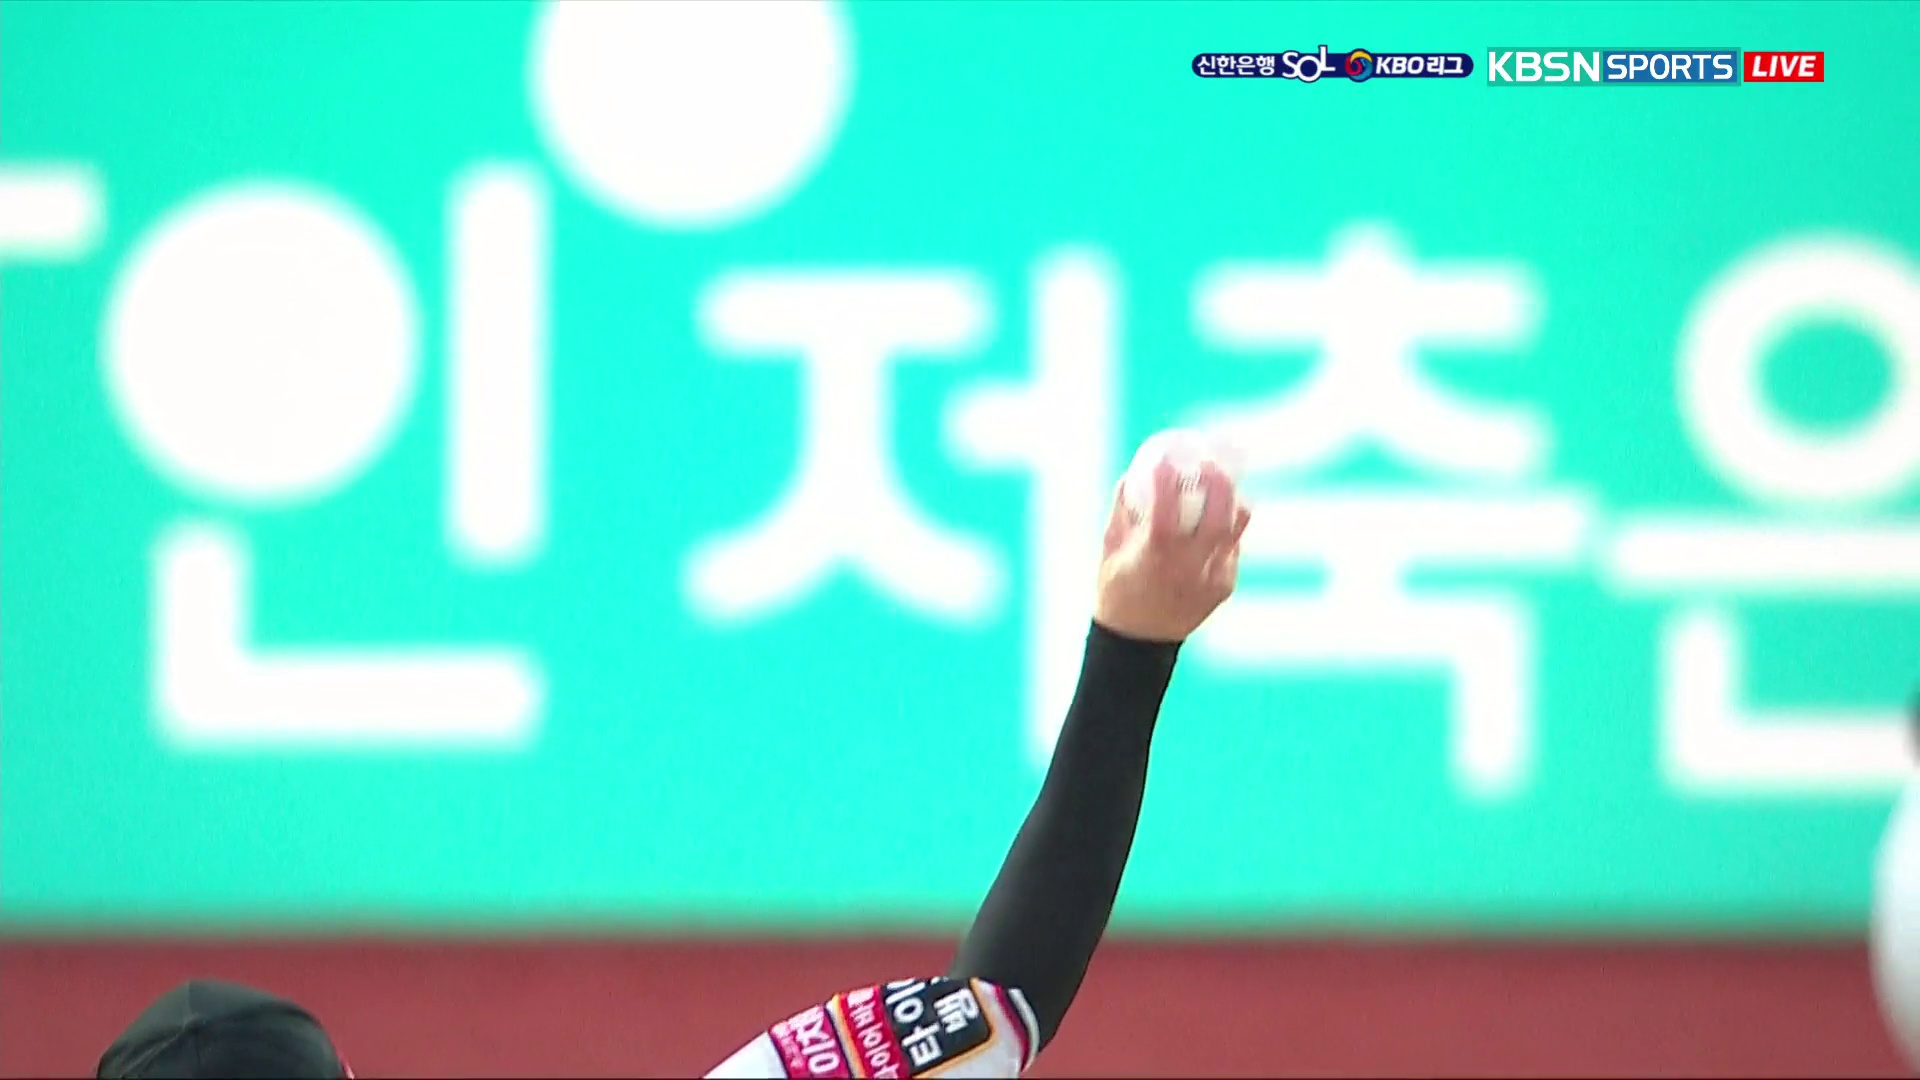zoomin_hand: (949, 421, 1259, 1050)
